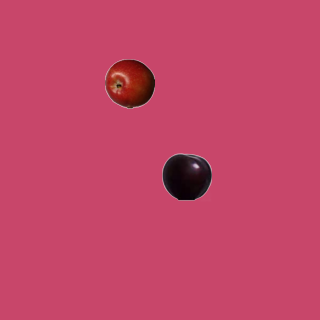Apple Braeburn: (104, 58, 154, 108)
Cherry Wax Black: (161, 151, 211, 201)
